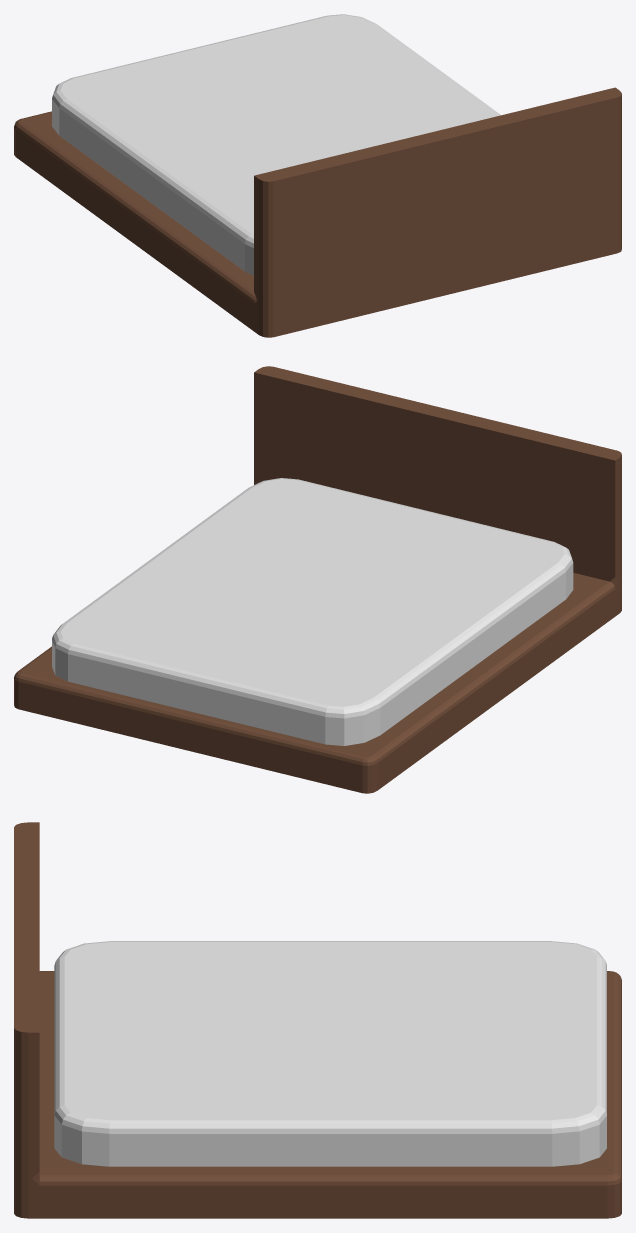
The model's file is Parent's Bed.fbx.
The picture shows the model from 3 angles, top to bottom: view 1: azimuth 30°, elevation 25°; view 2: azimuth 150°, elevation 25°; view 3: azimuth 270°, elevation 25°; orthographic projection. The views are drawn at different scales.
Visible parts, largest first — view 1: Cube, Mattress; view 2: Mattress, Cube; view 3: Mattress, Cube.
Part boxes in pixels (<box>): Cube: <box>14,87,621,337</box>; Mattress: <box>52,14,500,275</box>; Mattress: <box>52,478,573,745</box>; Cube: <box>14,366,621,793</box>; Mattress: <box>54,941,606,1166</box>; Cube: <box>14,822,621,1218</box>.
Bounding box in the file's own units: 5.5 × 1.86 × 4.5.
